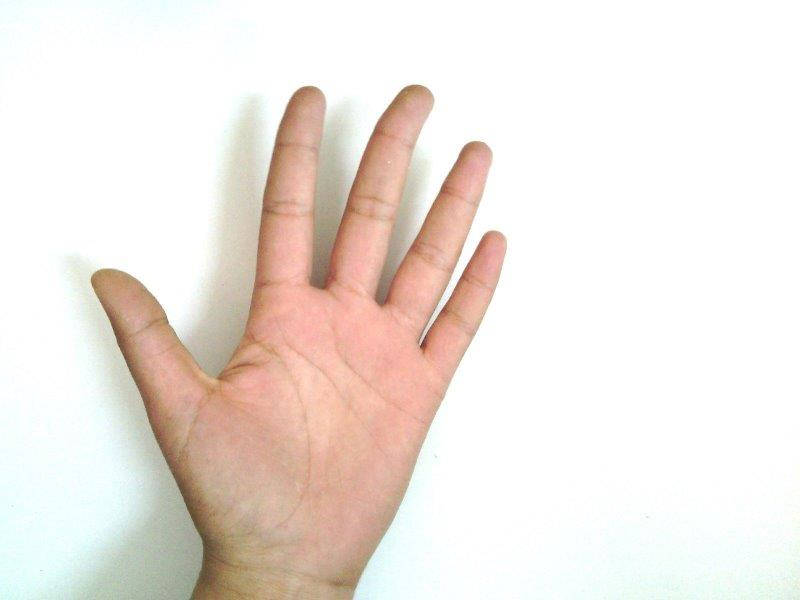hand: (92, 85, 507, 571)
